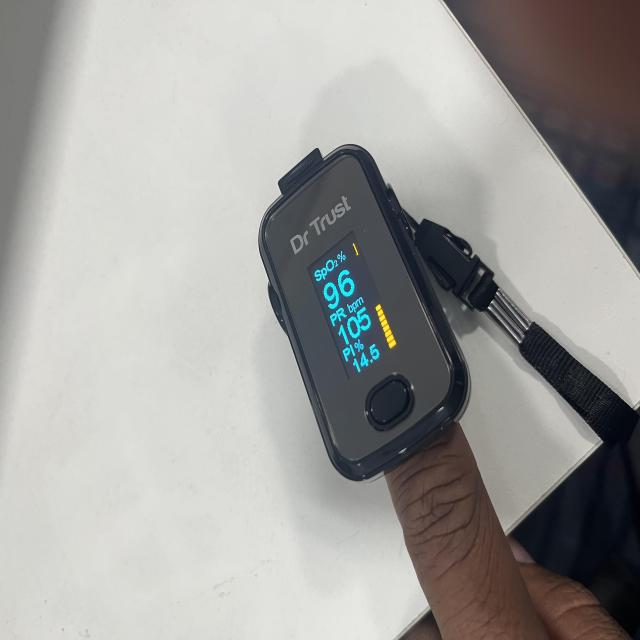spo2: (258, 145, 471, 484)
